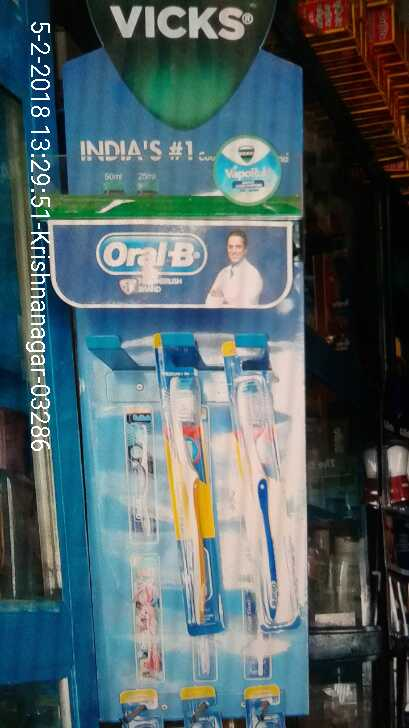oralb: (158, 371, 223, 628), (234, 374, 300, 626)
